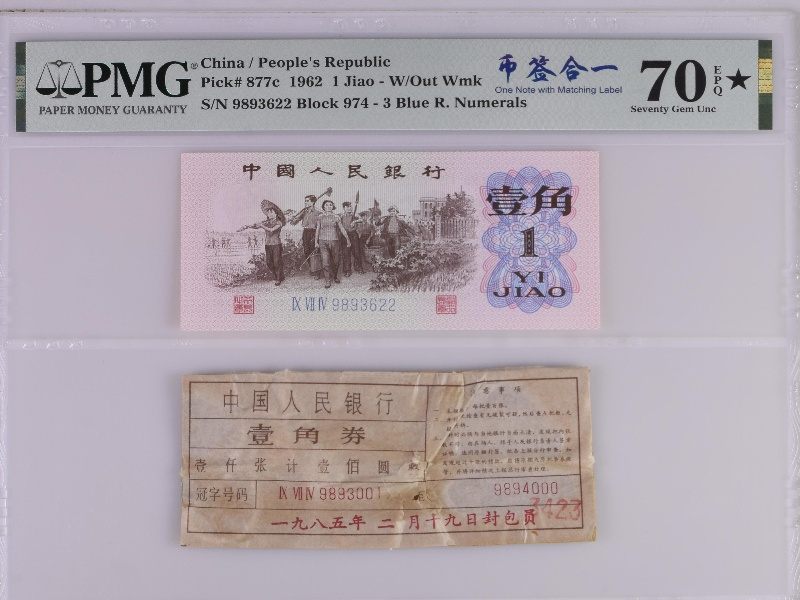papernote: (179, 149, 604, 333), (179, 371, 600, 547)
